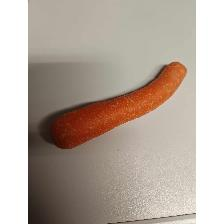Karotte: (48, 61, 188, 151)
